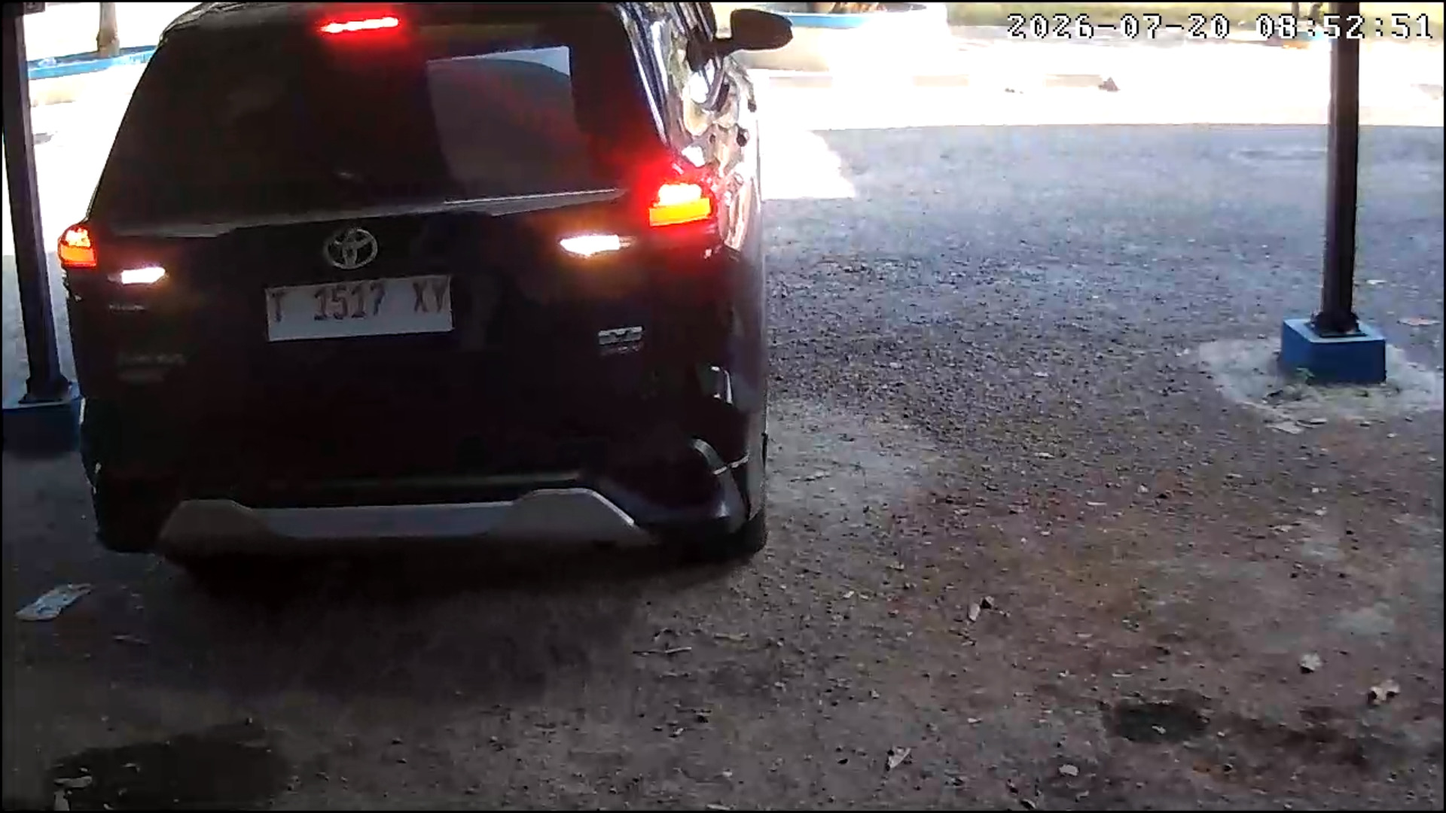plat nomor: (255, 268, 459, 349)
